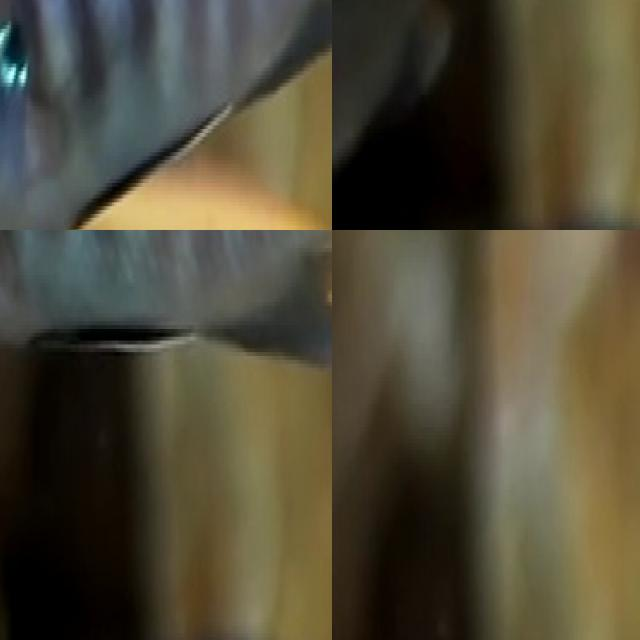fish: (0, 0, 332, 230), (332, 0, 476, 230)
